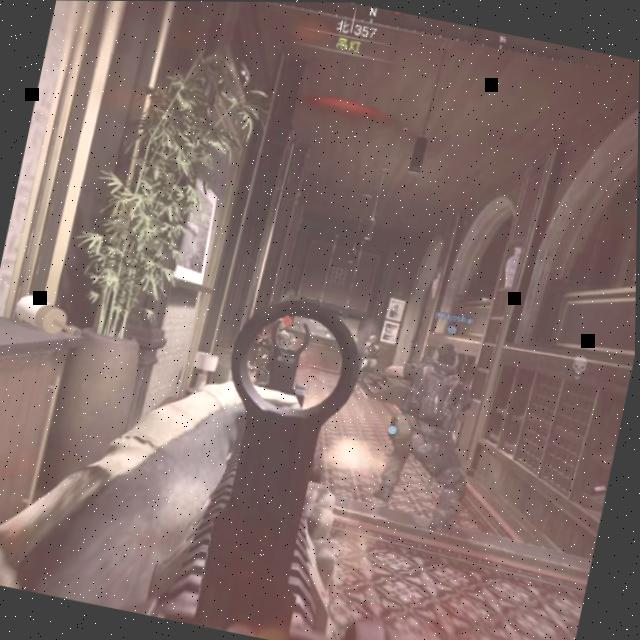MW2_body: (358, 333, 384, 383), (273, 314, 302, 351)
